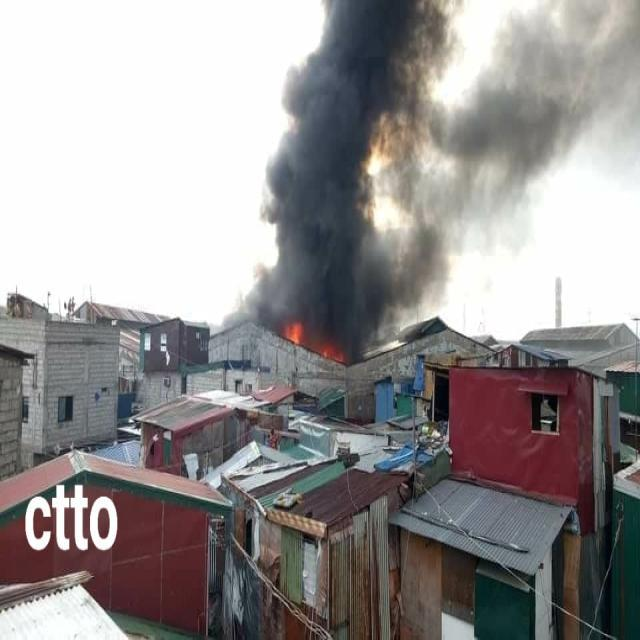Fire: (280, 315, 346, 364)
Smoke: (247, 0, 439, 364)
